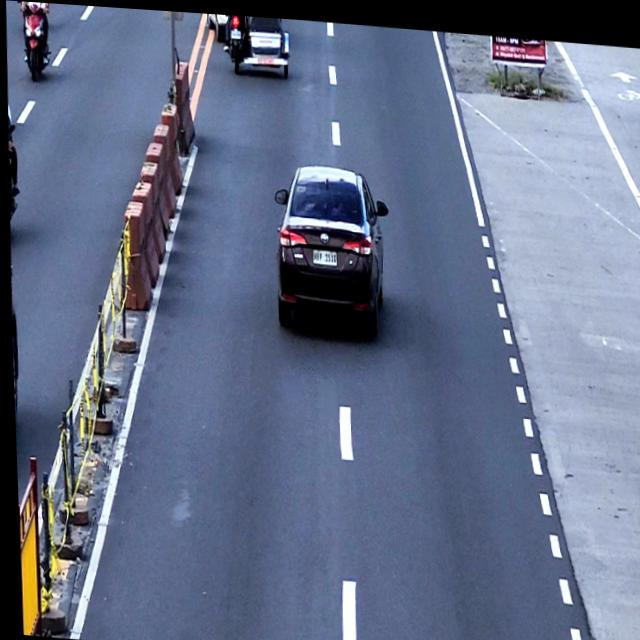Car: (270, 157, 390, 342)
License-Plate: (310, 244, 335, 261), (229, 26, 240, 35)
Motorcycle: (18, 1, 49, 80), (6, 124, 18, 223)
Tricycle: (222, 12, 290, 75)
